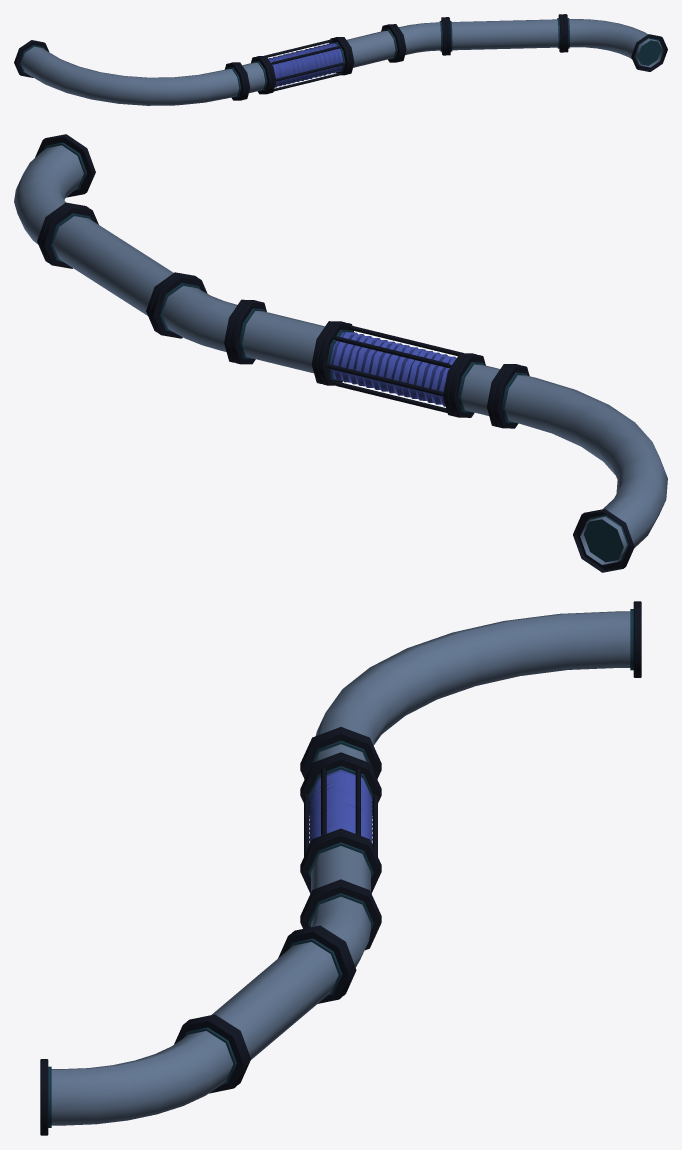
Rendered from PipeComplexSmall_A_25.fbx.
The picture shows the model from 3 angles, top to bottom: view 1: azimuth 30°, elevation 25°; view 2: azimuth 150°, elevation 25°; view 3: azimuth 270°, elevation 25°; orthographic projection. The views are drawn at different scales.
Visible parts, largest first — view 1: PipeComplexSmall_A_25.001; view 2: PipeComplexSmall_A_25.001; view 3: PipeComplexSmall_A_25.001.
Boxes of the visible parts, box(x1,y1,x2,y2) form: PipeComplexSmall_A_25.001: box(14, 14, 667, 105); PipeComplexSmall_A_25.001: box(14, 134, 667, 572); PipeComplexSmall_A_25.001: box(40, 601, 641, 1135).
Bounding box in the file's own units: 1.94 × 0.1356 × 1.
